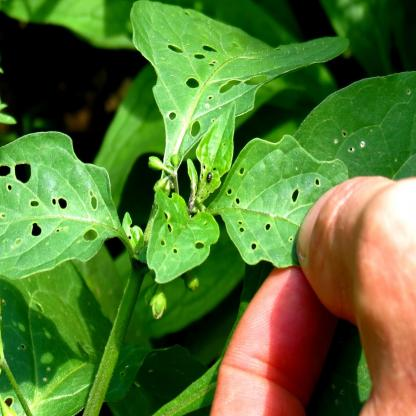beetle: (204, 168, 218, 189)
